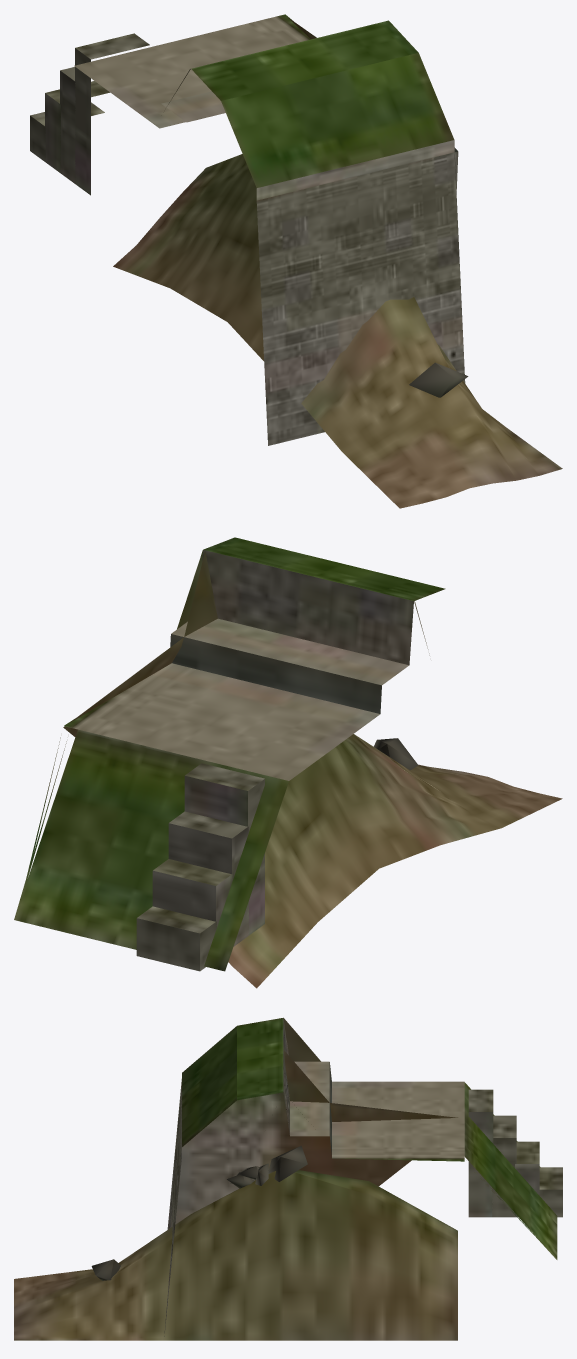
Rendered from starfort_bastion_flank_far.glb.
3 views of the same model, one above another, from view 1: azimuth 30°, elevation 25°; view 2: azimuth 150°, elevation 25°; view 3: azimuth 270°, elevation 25° (orthographic). The views are drawn at different scales.
Visible parts, largest first — view 1: breached, intact, stairs; view 2: intact, breached, stairs; view 3: breached, intact, stairs, endcap_a.
Boxes of the visible parts, x1,y1,x2,y2 form: breached: [75, 14, 562, 508]; intact: [74, 17, 465, 445]; stairs: [30, 33, 149, 195]; intact: [14, 537, 445, 971]; breached: [14, 537, 562, 988]; stairs: [136, 763, 264, 971]; breached: [14, 1018, 557, 1340]; intact: [164, 1018, 557, 1336]; stairs: [468, 1089, 562, 1217]; endcap_a: [167, 1018, 320, 1227].
Size of what is drawn, in the model's own units: 4.29 by 6.24 by 12.43.
Materials: 1 (1 with a texture image).
